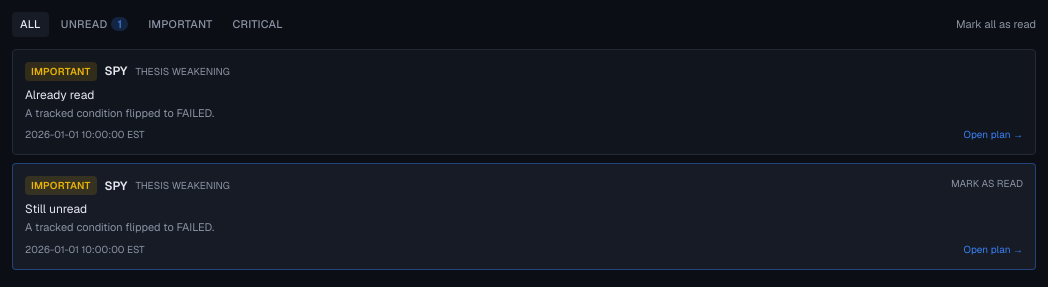
AlertCenter › switching to the Unread filter shows only unread alerts
Check: the text "Already read" is shown, box [25, 86, 94, 102]
Check: the text "Still unread" is shown, box [25, 201, 87, 217]
Click the button "Unread1": {"x": 94, "y": 24} [53, 12, 136, 36]
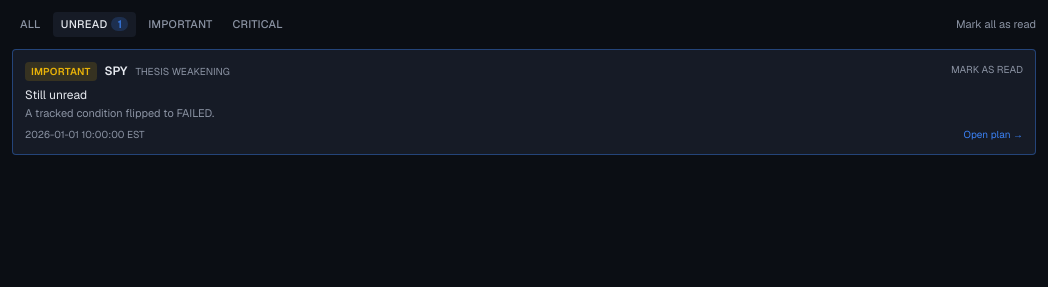
Check: the text "Still unread" is shown, box [25, 86, 87, 102]
Check: the text "Already read" is gone
